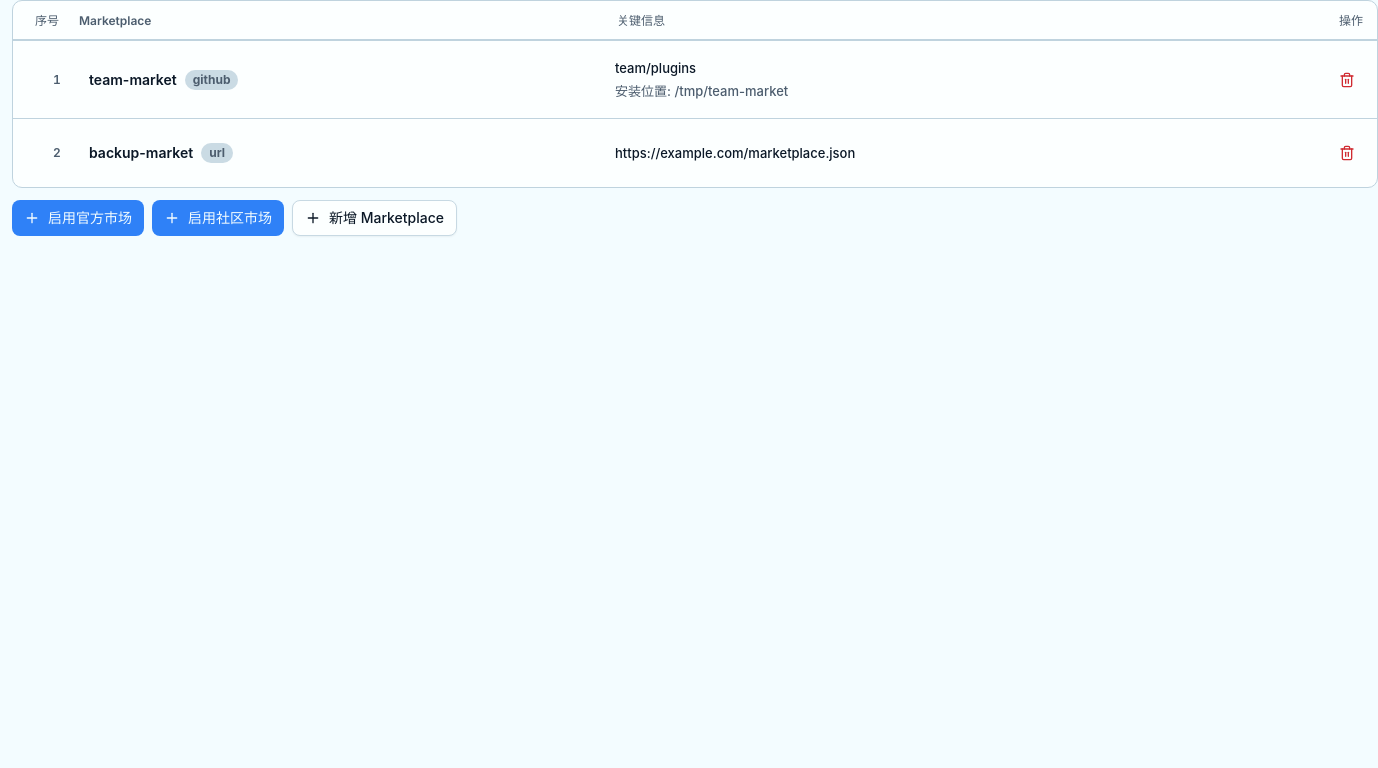
Test: MarketplaceEditor › blocks deletion while the current marketplace row has unsaved changes
The image size is (1378, 768).
Click the button with aria-label "编辑 Marketplace team-market" at (133, 79), box [27,51,1319,108]
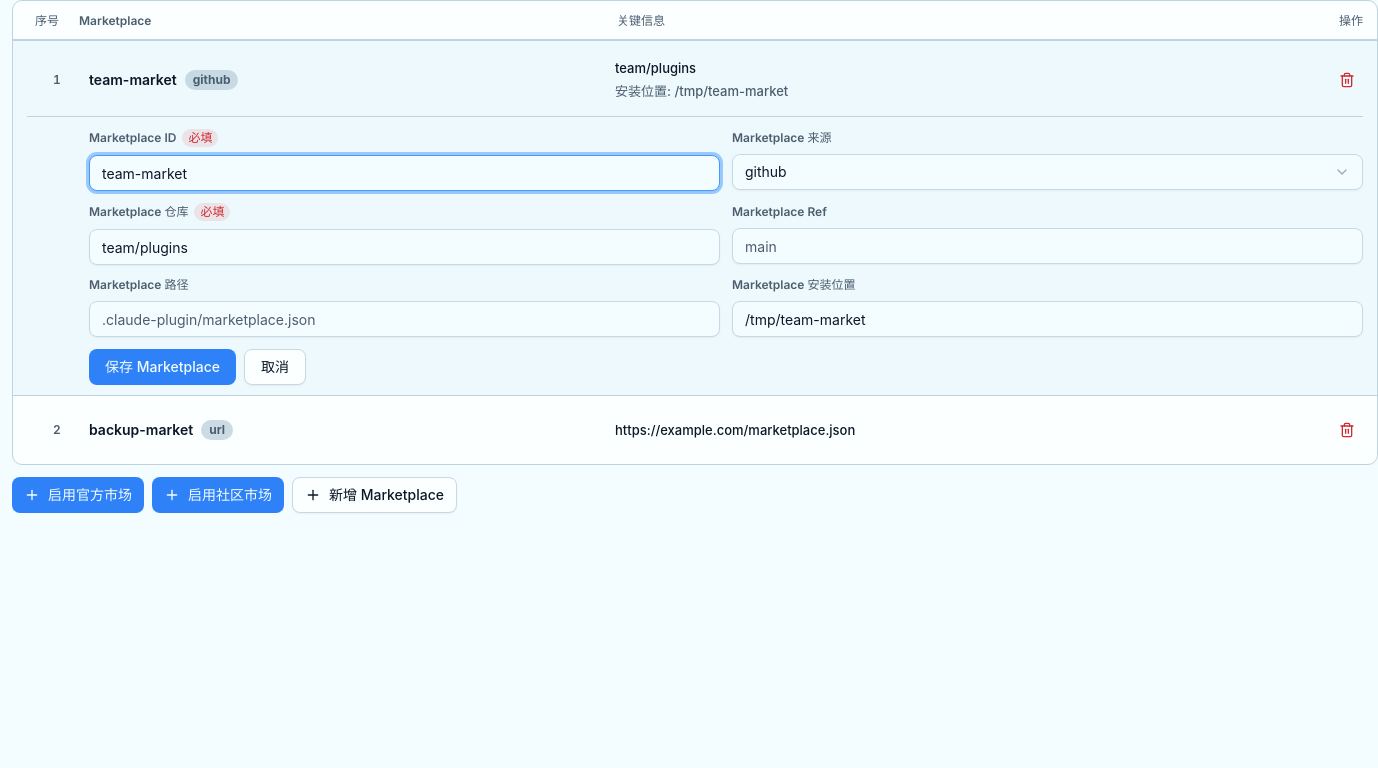
Type "team/updated-plugins" into the field labelled "Marketplace 仓库" at (404, 247), box [89,229,720,265]
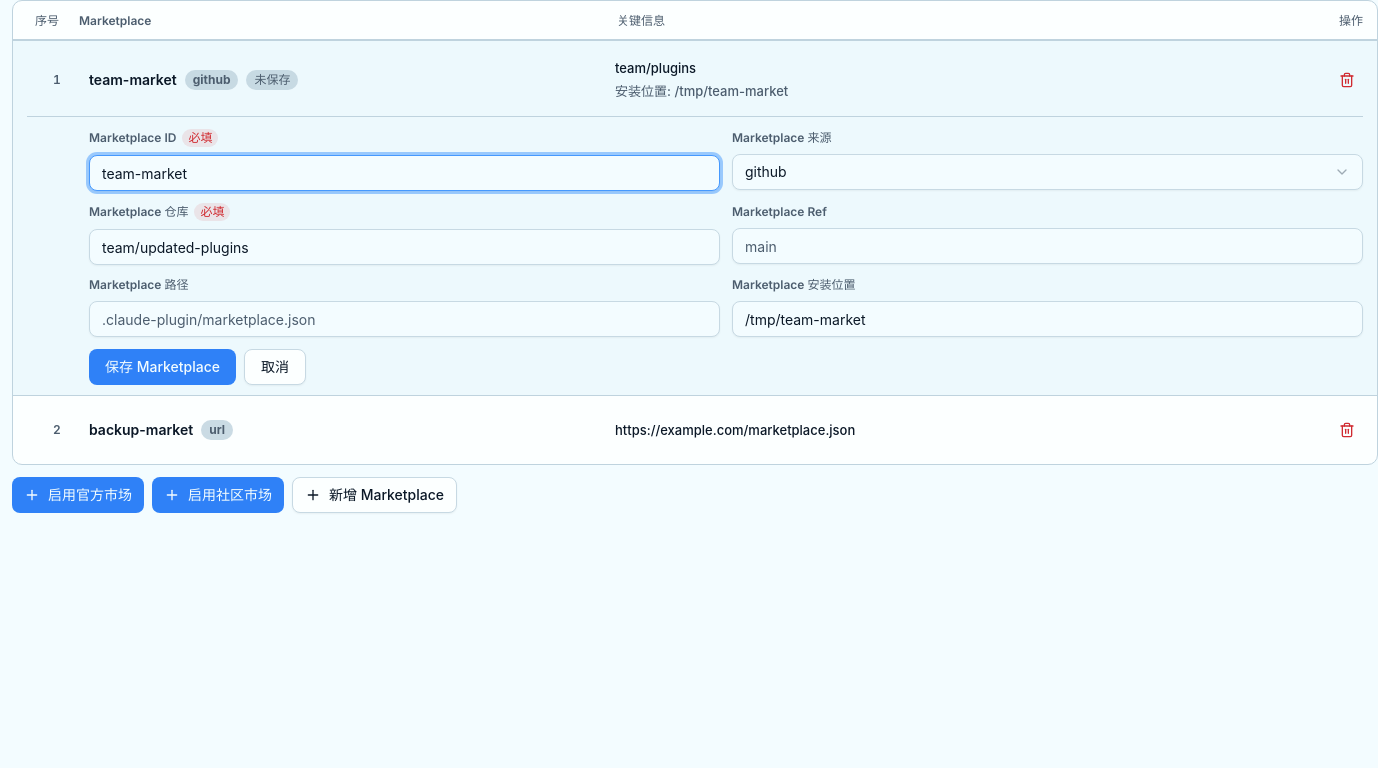
Click the button named "删除 Marketplace team-market" at (1347, 80), box [1331,64,1363,96]
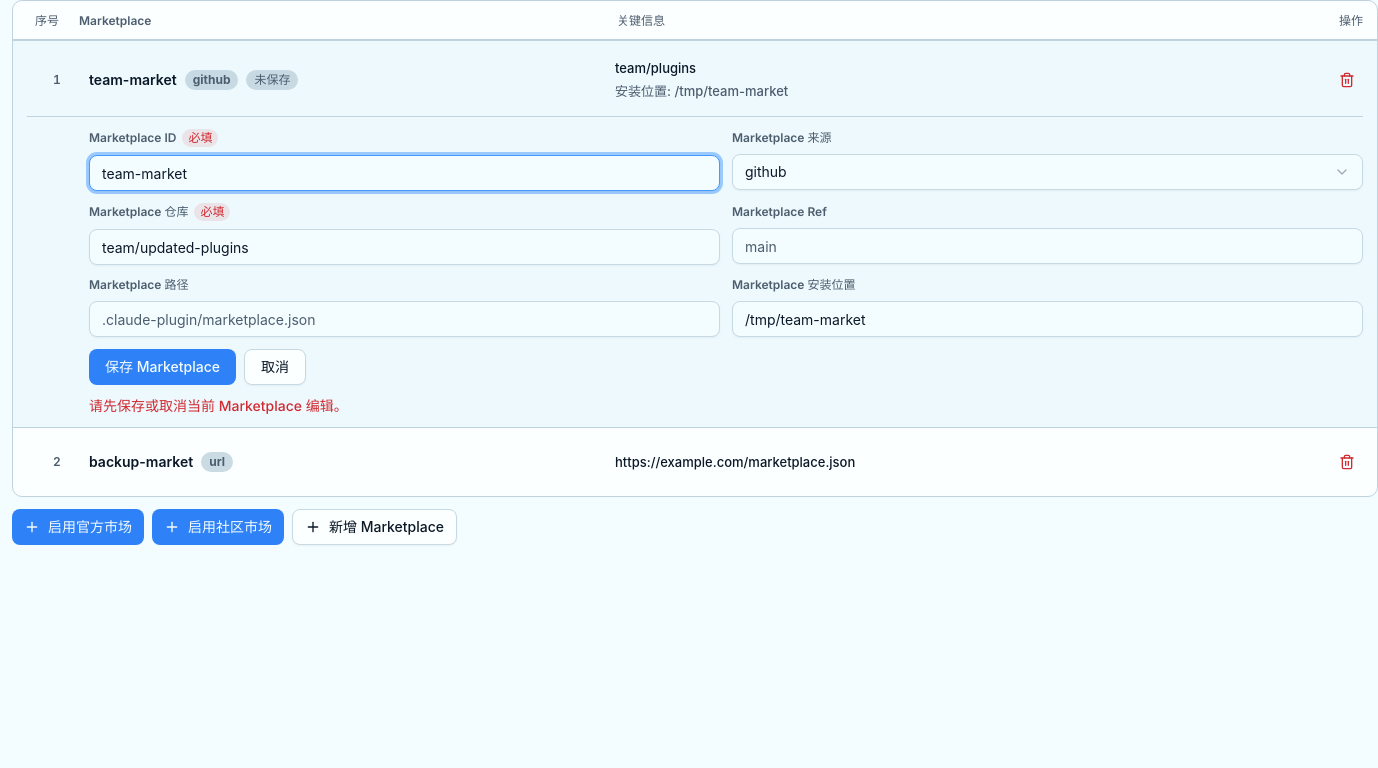
Result: the text "请先保存或取消当前 Marketplace 编辑。" is shown at [89,398,348,415]
